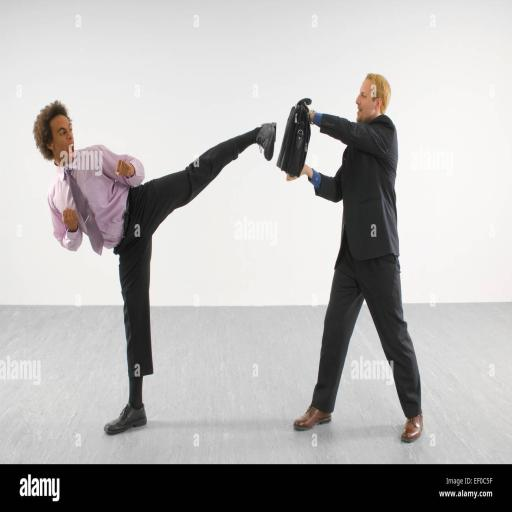fight: (3, 60, 461, 446)
